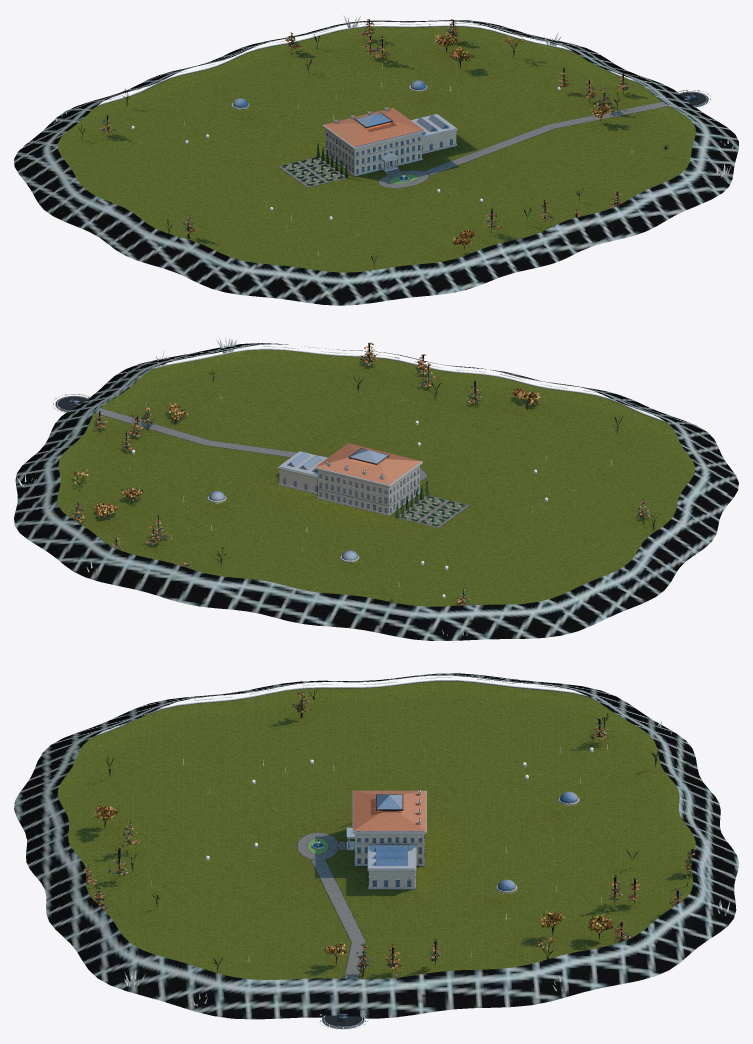
The model's file is league_club.glb.
The picture shows the model from 3 angles, top to bottom: view 1: azimuth 30°, elevation 25°; view 2: azimuth 150°, elevation 25°; view 3: azimuth 270°, elevation 25°; orthographic projection. The views are drawn at different scales.
Parts seen in each view (by area): view 1: site_ground, props_ward, site_trees, site_garden, walls_ext, roof, props_magitech, props_railings, windows; view 2: site_ground, props_ward, site_trees, walls_ext, roof, site_garden, props_magitech, windows, props_railings; view 3: site_ground, props_ward, site_trees, roof, site_garden, walls_ext, props_magitech, props_railings.
Boxes of the visible parts, bbox=[...] form: site_ground: bbox=[57, 26, 695, 272]; props_ward: bbox=[14, 20, 738, 305]; site_trees: bbox=[78, 19, 668, 268]; site_garden: bbox=[279, 102, 668, 187]; walls_ext: bbox=[322, 125, 457, 176]; roof: bbox=[324, 107, 456, 160]; props_magitech: bbox=[53, 15, 734, 254]; props_railings: bbox=[97, 25, 639, 105]; windows: bbox=[326, 132, 452, 173]; site_ground: bbox=[57, 349, 694, 606]; props_ward: bbox=[14, 343, 738, 640]; site_trees: bbox=[69, 342, 656, 605]; walls_ext: bbox=[277, 461, 422, 515]; roof: bbox=[278, 443, 421, 484]; site_garden: bbox=[95, 408, 469, 527]; props_magitech: bbox=[16, 334, 611, 635]; windows: bbox=[283, 469, 418, 512]; props_railings: bbox=[153, 348, 667, 422]; site_ground: bbox=[57, 681, 695, 979]; props_ward: bbox=[14, 673, 738, 1019]; site_trees: bbox=[83, 688, 699, 979]; roof: bbox=[346, 790, 425, 869]; site_garden: bbox=[297, 832, 365, 979]; walls_ext: bbox=[347, 791, 426, 889]; props_magitech: bbox=[124, 677, 730, 1006]; props_railings: bbox=[93, 680, 589, 736].
Bounding box in the file's own units: 367 × 63.2 × 315.
13 materials, 13 textured.
